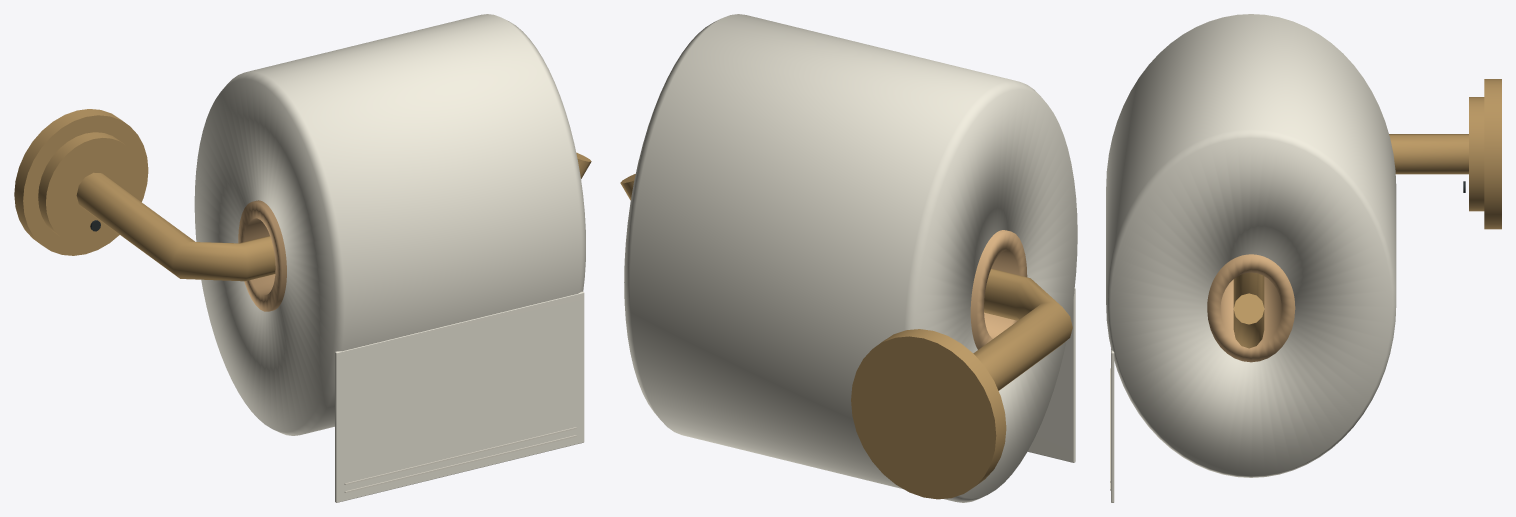
Rendered from bath-tissue-holder.glb.
3 views of the same model, side by side, from view 1: azimuth 30°, elevation 25°; view 2: azimuth 150°, elevation 25°; view 3: azimuth 270°, elevation 25° (orthographic). The views are drawn at different scales.
Visible parts, largest first — view 1: catalog_surface_RealismUV; view 2: catalog_surface_RealismUV; view 3: catalog_surface_RealismUV.
Part boxes in pixels (x1,y1,x2,y2): catalog_surface_RealismUV: [14, 14, 591, 502]; catalog_surface_RealismUV: [620, 14, 1077, 502]; catalog_surface_RealismUV: [1106, 14, 1501, 502].
Bounding box in the file's own units: 0.19 × 0.15 × 0.145.
